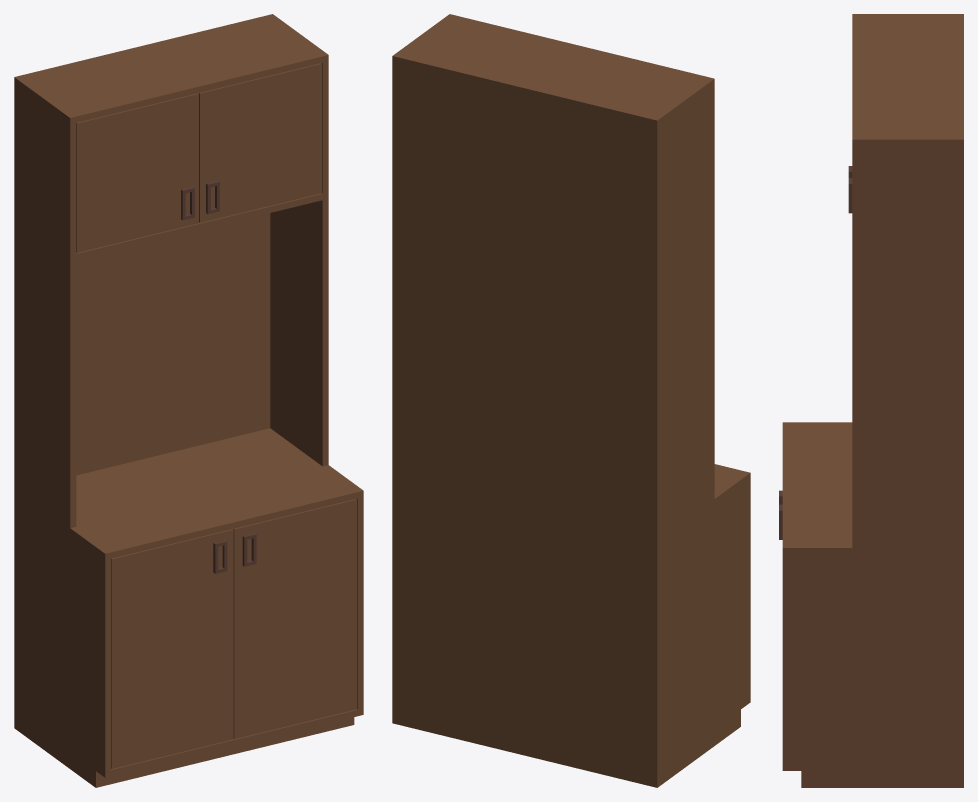
File: family_room_case.glb
3 views of the same model, side by side, from view 1: azimuth 30°, elevation 25°; view 2: azimuth 150°, elevation 25°; view 3: azimuth 270°, elevation 25° (orthographic). The views are drawn at different scales.
Visible parts, largest first — view 1: family_room_case; view 2: family_room_case; view 3: family_room_case.
Boxes of the visible parts, x1,y1,x2,y2 form: family_room_case: (14, 14, 363, 787); family_room_case: (392, 14, 750, 787); family_room_case: (779, 14, 963, 787).
Bounding box in the file's own units: 32 × 77 × 19.9.
